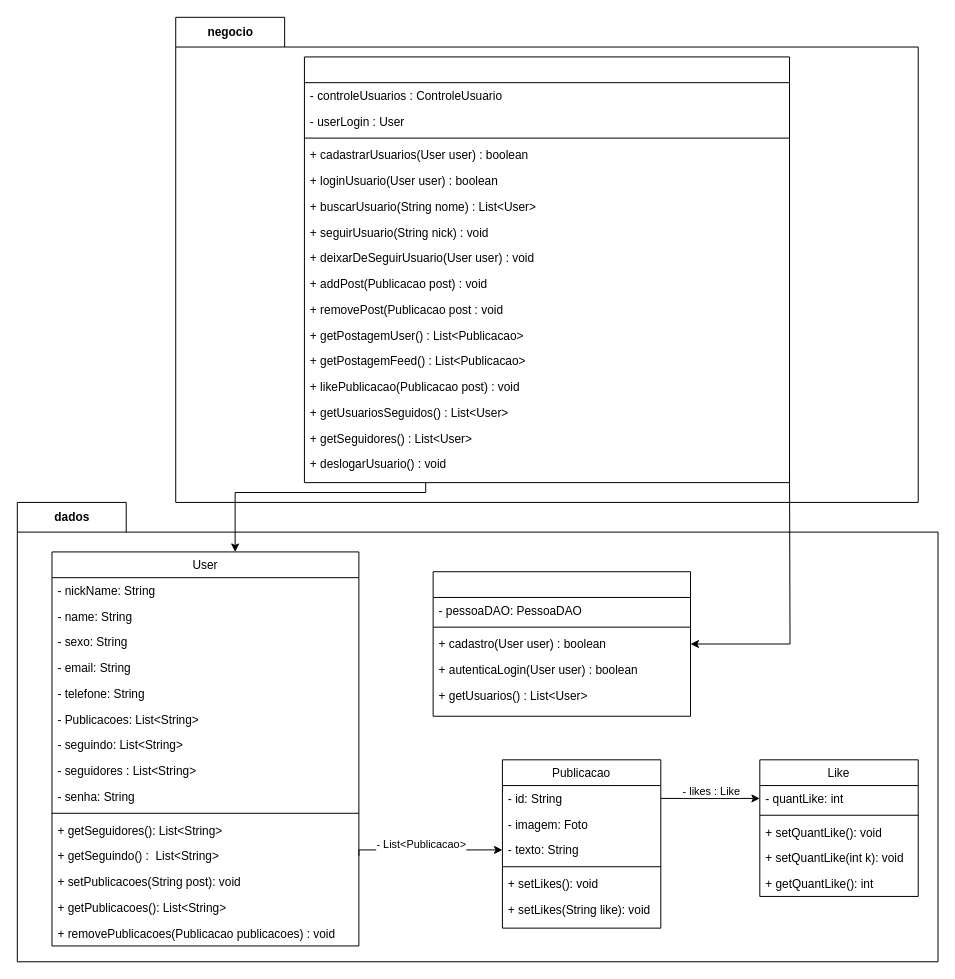
The diagram is 955 pixels wide and 979 high, and some of its shapes have lost their labels. Here are the shapes that lost their labels. From the top down, the box of each, then its label:
(303, 56, 790, 483): Sistema
(432, 571, 691, 716): ControleUsuarios
